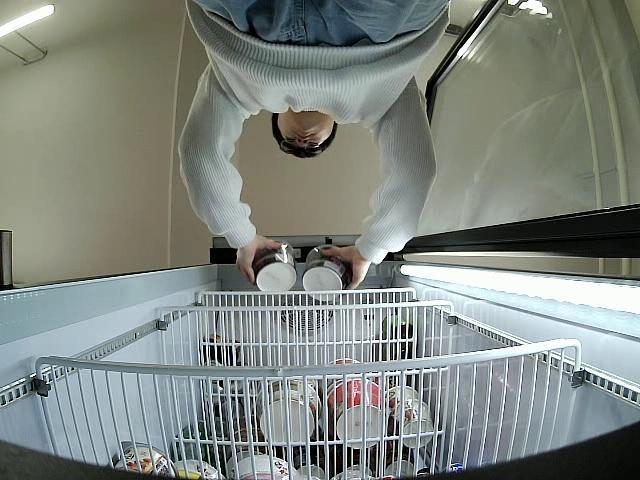07_buldak_L: (303, 246, 351, 300), (254, 241, 296, 293)
